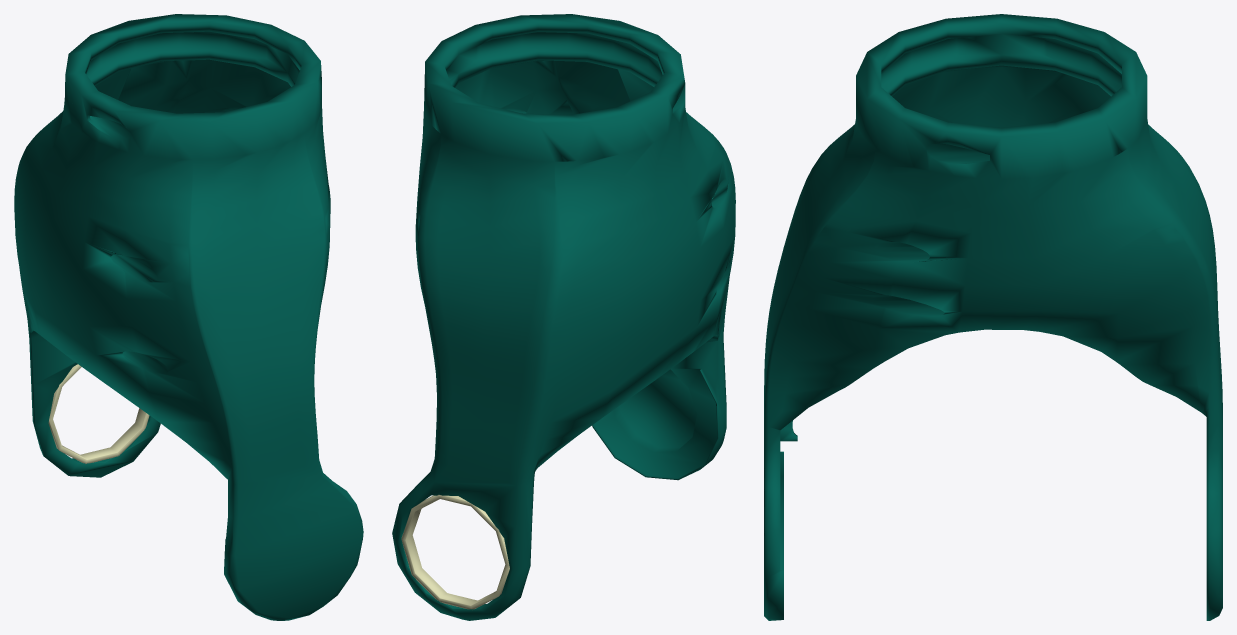
File: 2h09040_arml_t34.obj
3 renders of one model, left to right at view 1: azimuth 30°, elevation 25°; view 2: azimuth 150°, elevation 25°; view 3: azimuth 270°, elevation 25°, orthographic. The views are drawn at different scales.
Size of the model in its own units: 0.1337 by 0.2545 by 0.197.
